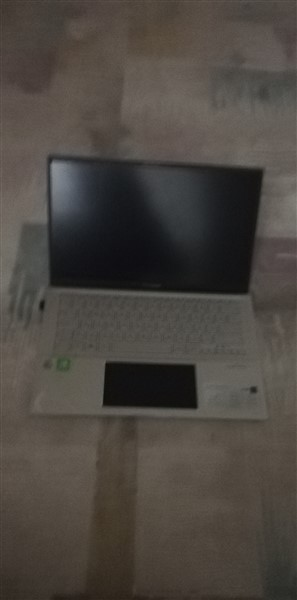laptop: (29, 153, 275, 429)
